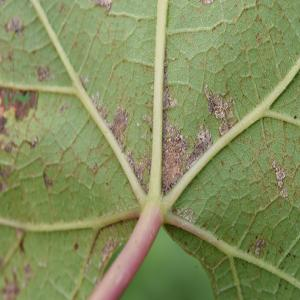Folha: (0, 0, 299, 299)
Fungo: (81, 47, 237, 198), (159, 48, 235, 195), (79, 74, 150, 194), (161, 47, 189, 195), (161, 121, 189, 194), (204, 83, 236, 136), (185, 123, 212, 170), (1, 262, 32, 299), (162, 48, 178, 110), (110, 105, 128, 151), (7, 88, 30, 120), (271, 159, 288, 198), (193, 124, 212, 155), (1, 269, 20, 299), (91, 91, 108, 121), (99, 237, 116, 263), (162, 84, 178, 110), (203, 83, 216, 115), (4, 16, 24, 36), (176, 206, 198, 224), (36, 63, 55, 83), (88, 0, 113, 12), (274, 167, 286, 188), (254, 238, 266, 255), (79, 73, 89, 90), (42, 171, 52, 187), (58, 101, 68, 114), (198, 0, 213, 4)
